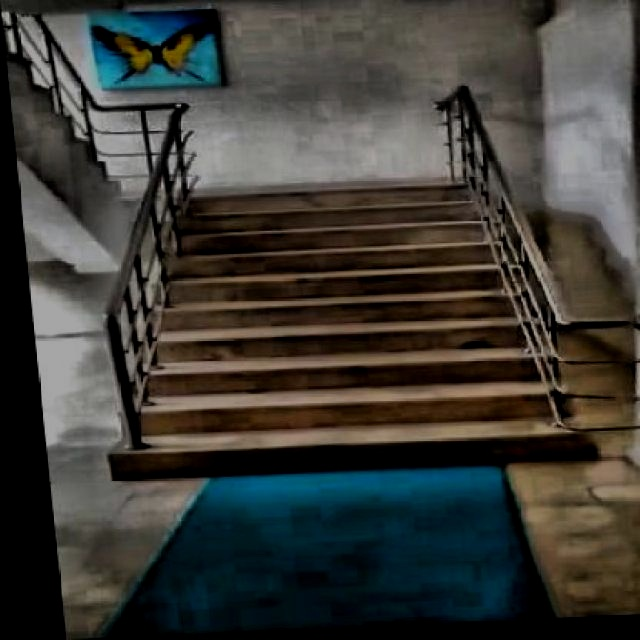stair: (130, 191, 565, 475)
